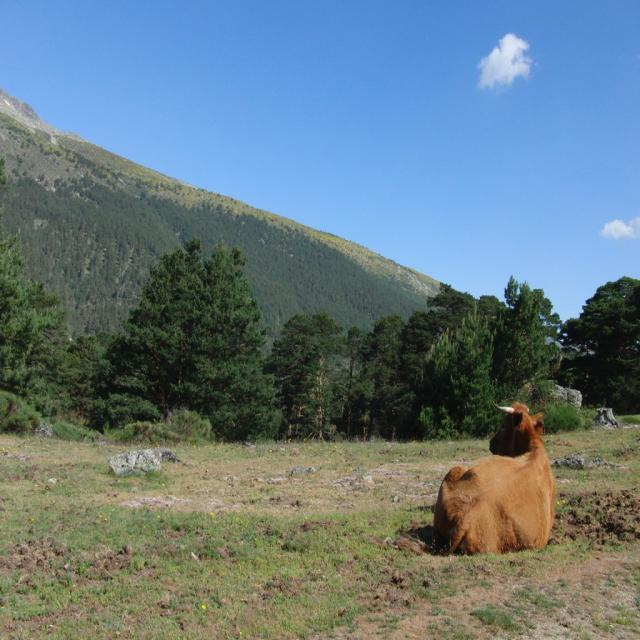Cattle: (424, 394, 564, 565)
